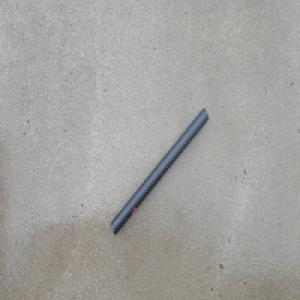LuggagePart: (110, 107, 209, 235)
